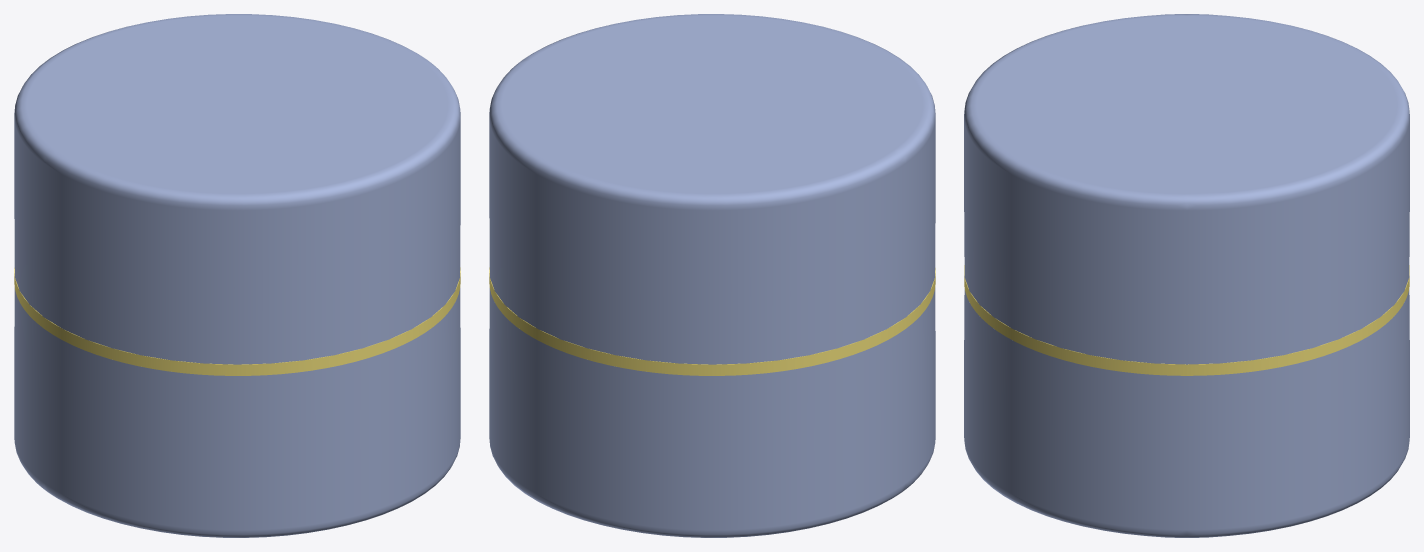
The model's file is 小原子右膝盖.glb.
3 views of the same model, side by side, from view 1: azimuth 30°, elevation 25°; view 2: azimuth 150°, elevation 25°; view 3: azimuth 270°, elevation 25° (orthographic).
Bounding box in the file's own units: 0.0696 × 0.0589 × 0.0696.
